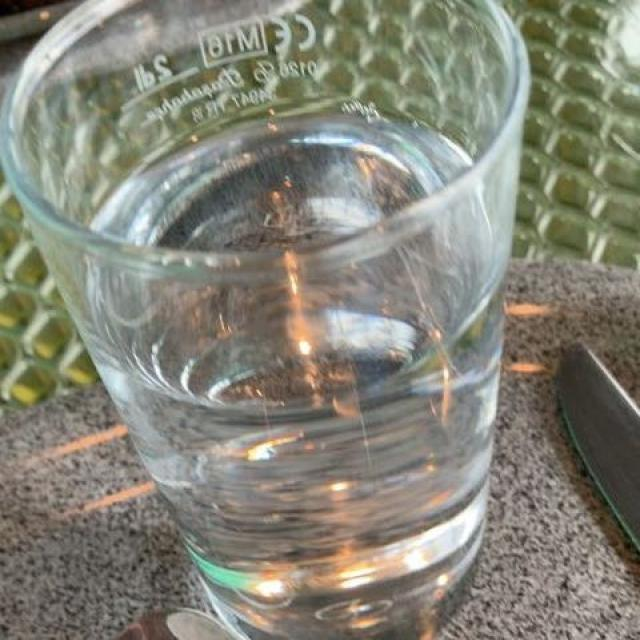water: (75, 108, 512, 612)
